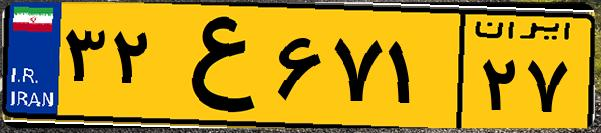1: (385, 28, 445, 110)
2: (475, 38, 525, 113), (110, 28, 158, 98)
3: (57, 26, 110, 100)
6: (270, 28, 330, 110)
7: (330, 28, 385, 110), (525, 38, 570, 115)
ع: (158, 12, 270, 120)
